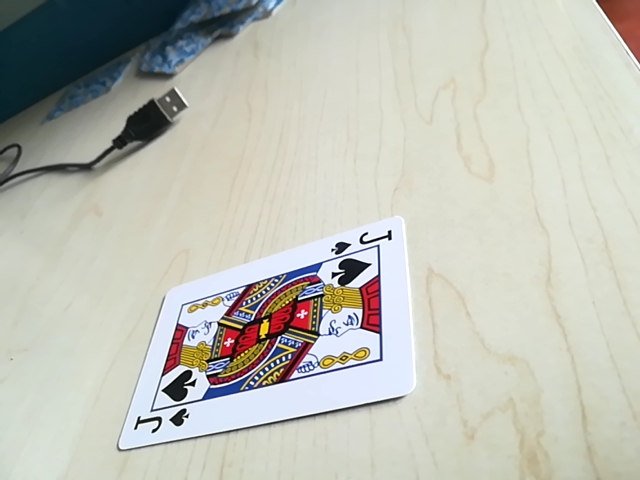ht j: (129, 404, 191, 443), (329, 228, 394, 259)
